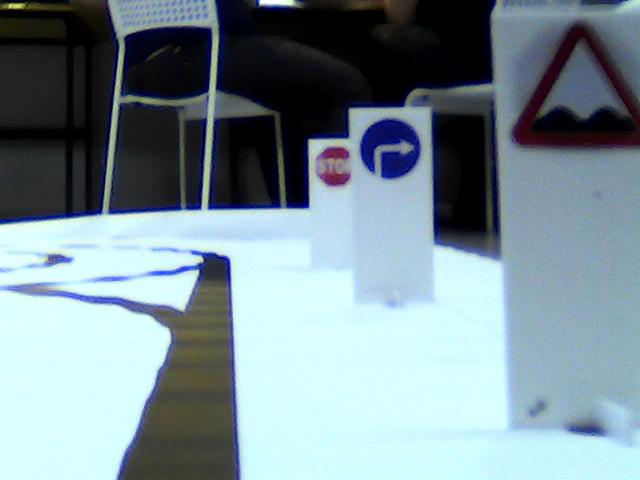Nerov: (511, 29, 640, 154)
Right: (358, 116, 422, 183)
Stop: (317, 143, 349, 190)
